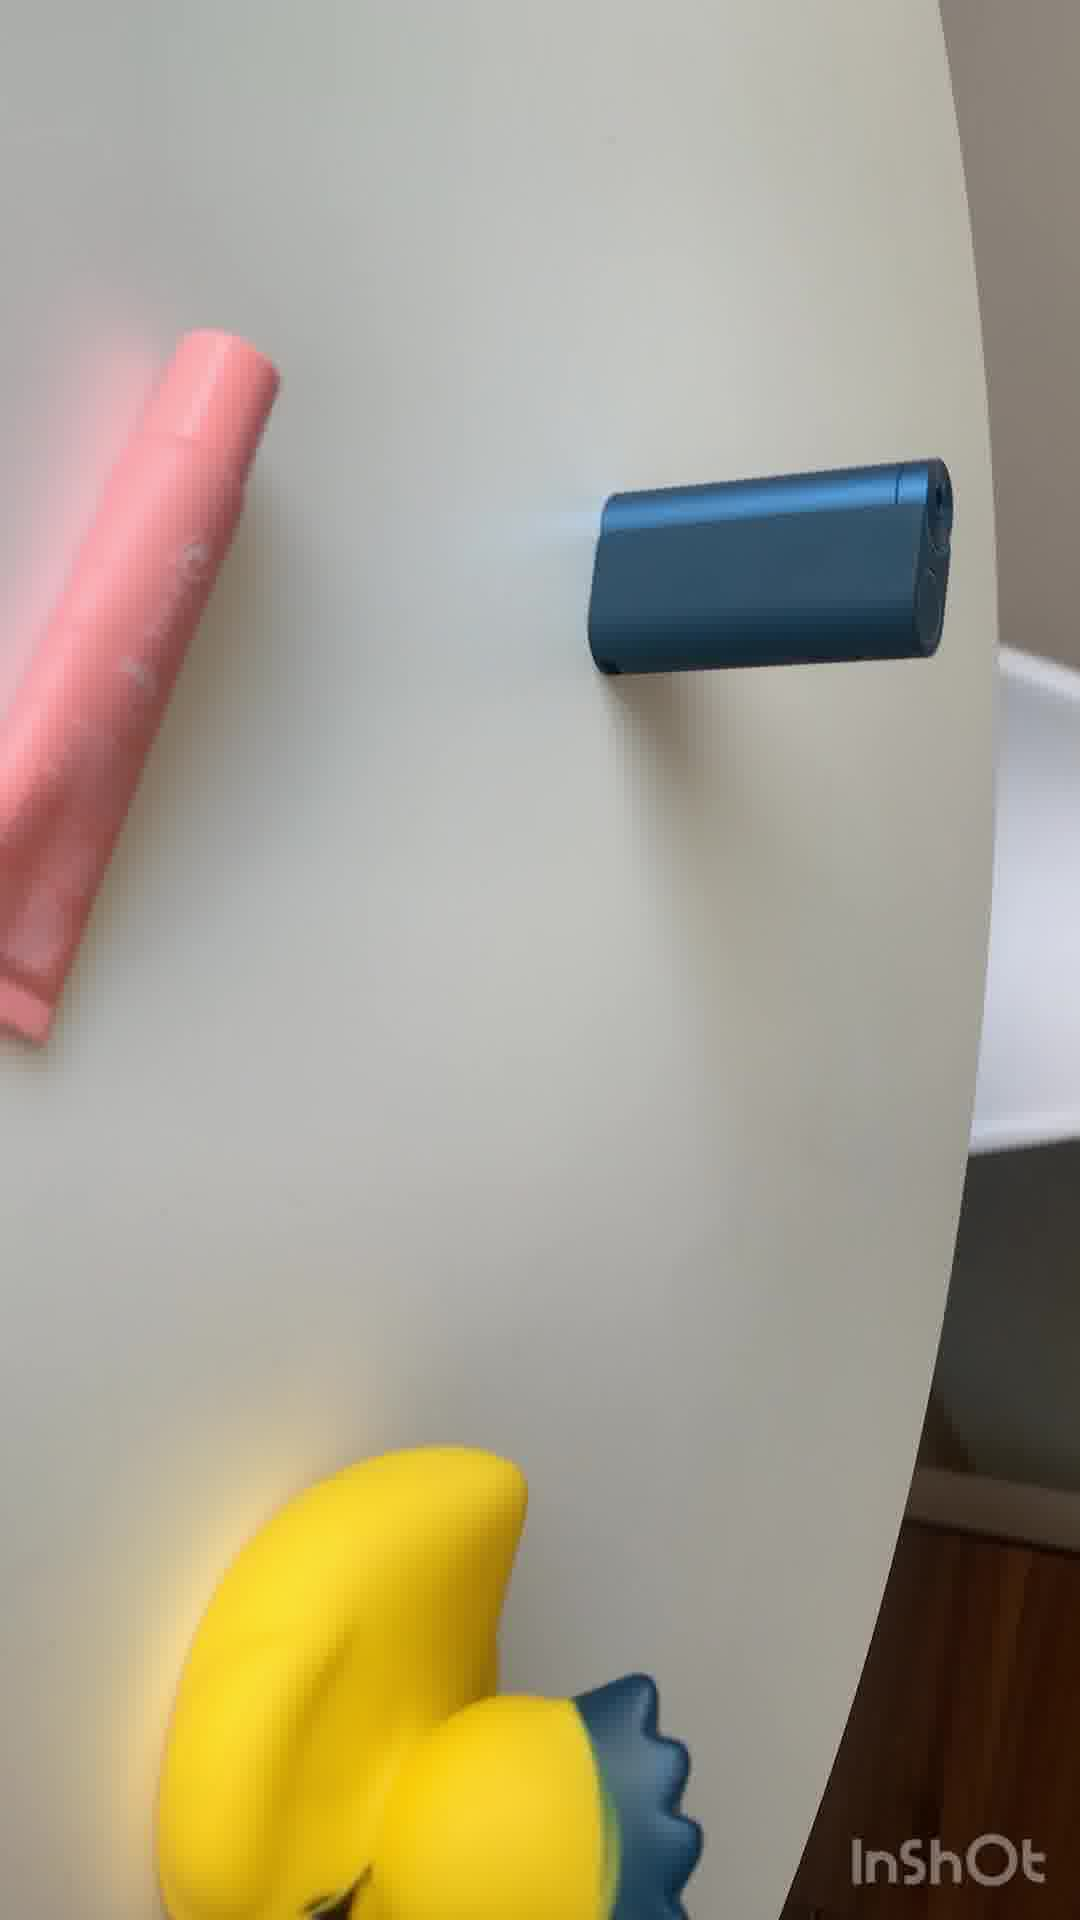duck: (154, 1444, 703, 1920)
glo: (585, 458, 949, 669)
lip balm: (1, 313, 298, 1054)
